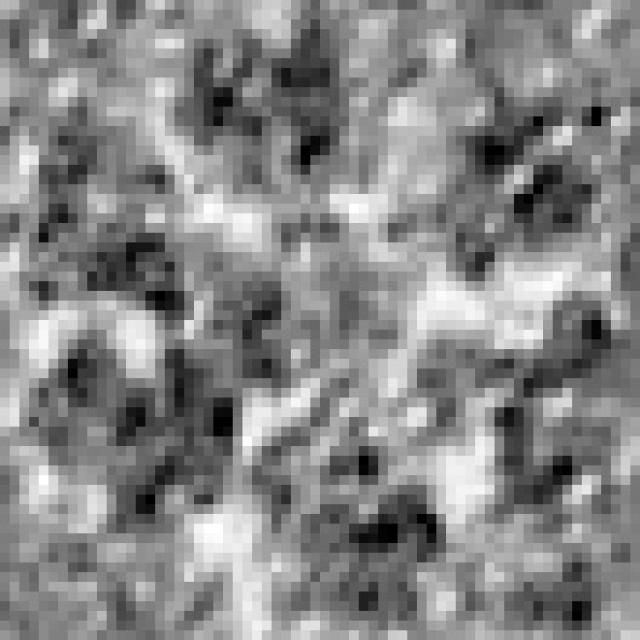inner: (203, 216, 429, 390)
lobe: (404, 298, 634, 513), (18, 338, 245, 534), (256, 405, 453, 626), (17, 103, 209, 319), (173, 13, 356, 203), (430, 81, 601, 269)
outer: (0, 0, 640, 640)
